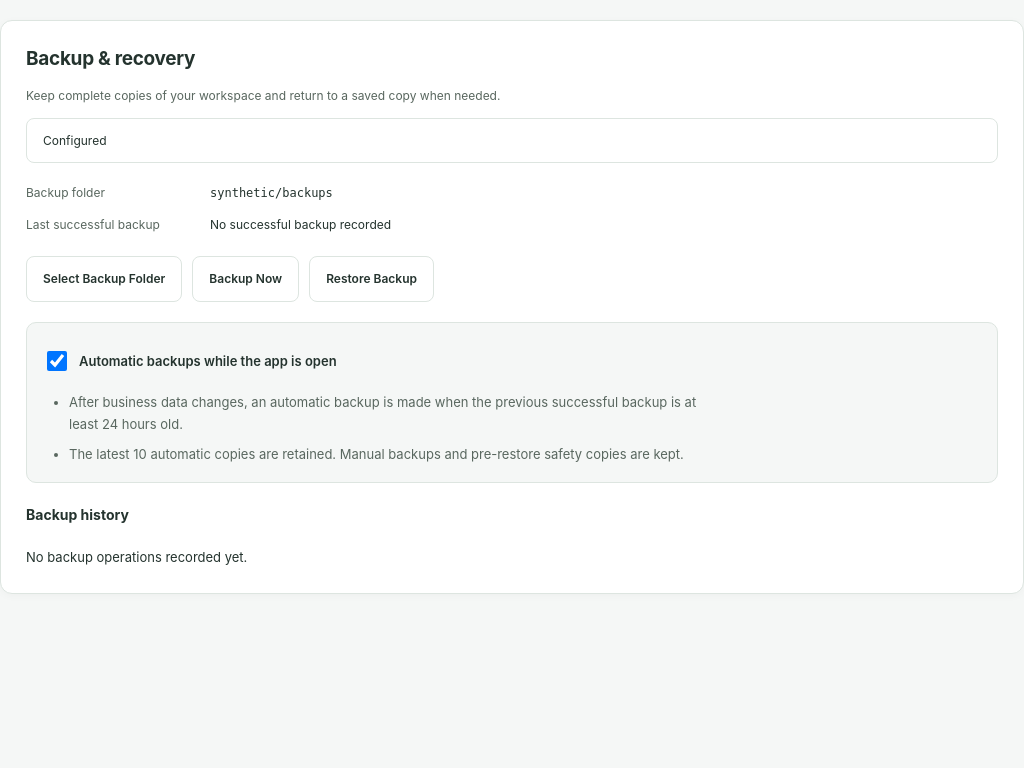
Scenario: keeps failure visible without displaying false success
The image size is (1024, 768).
Expected: the text "synthetic/backups" is shown, [210, 186, 333, 200]
Click the button "Backup Now".
click(246, 279)  # box [192, 256, 299, 302]
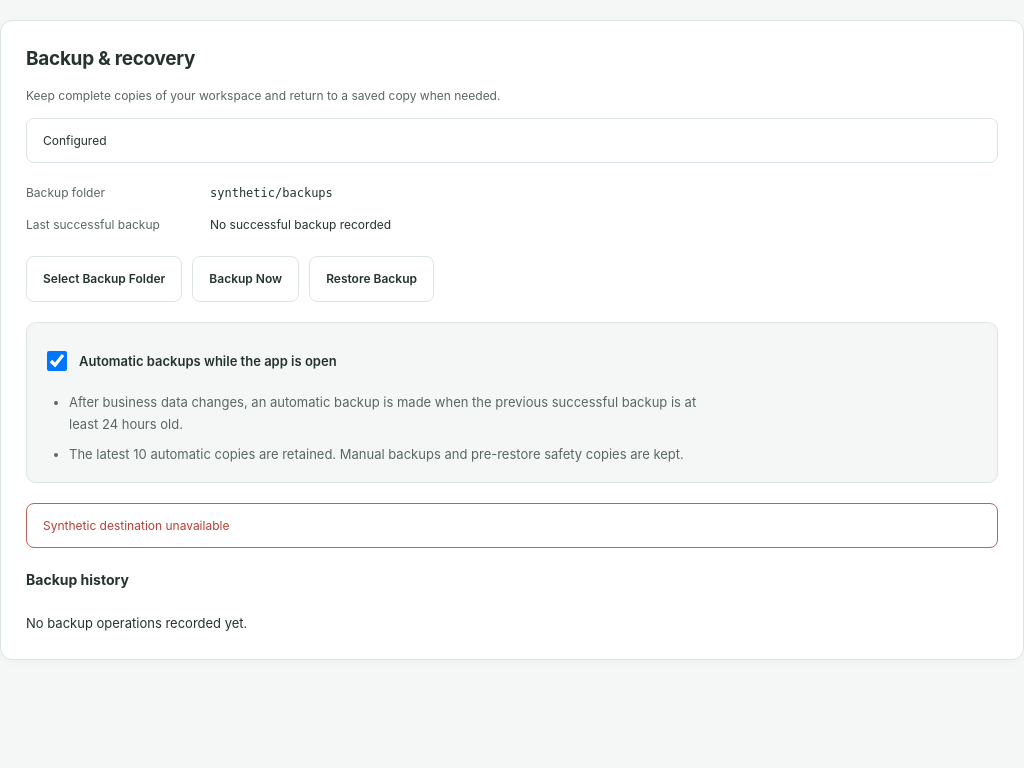
Expected: the message shows "destination unavailable", [43, 518, 229, 532]
